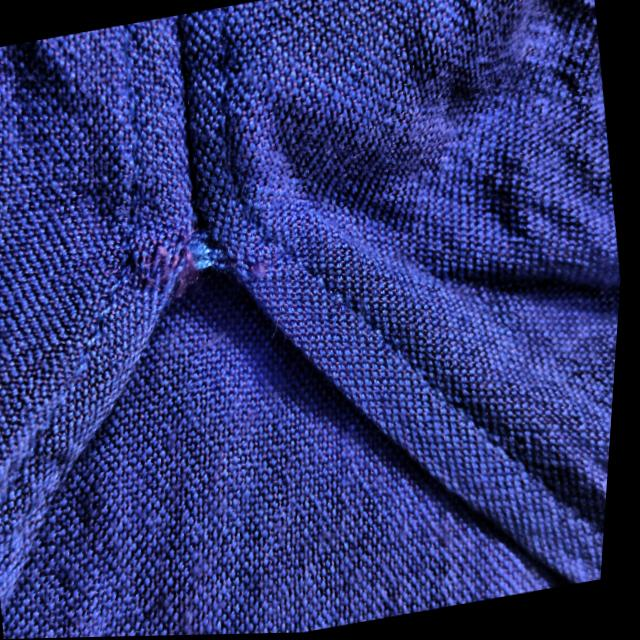Stitch: (97, 166, 274, 314)
